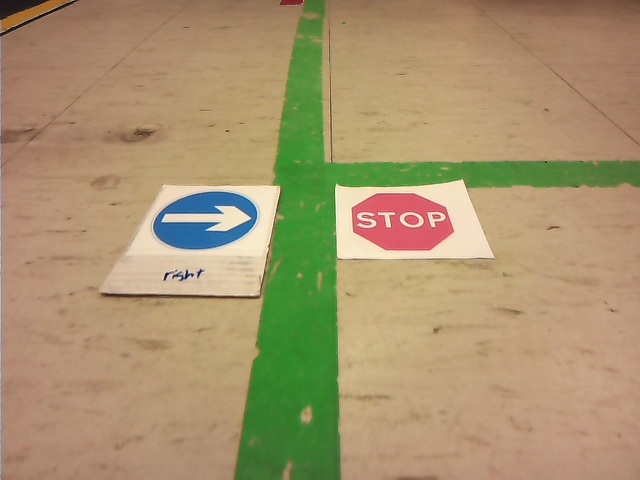STOP: (353, 193, 453, 250)
TURN RIGHT: (152, 187, 260, 249)
